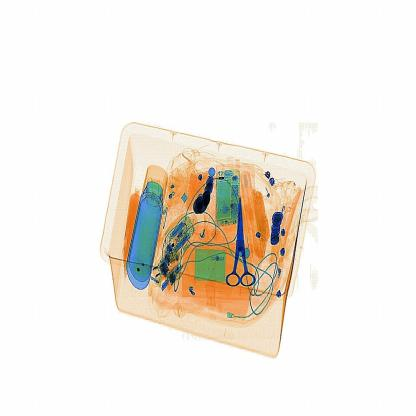gun: (221, 192, 267, 306)
